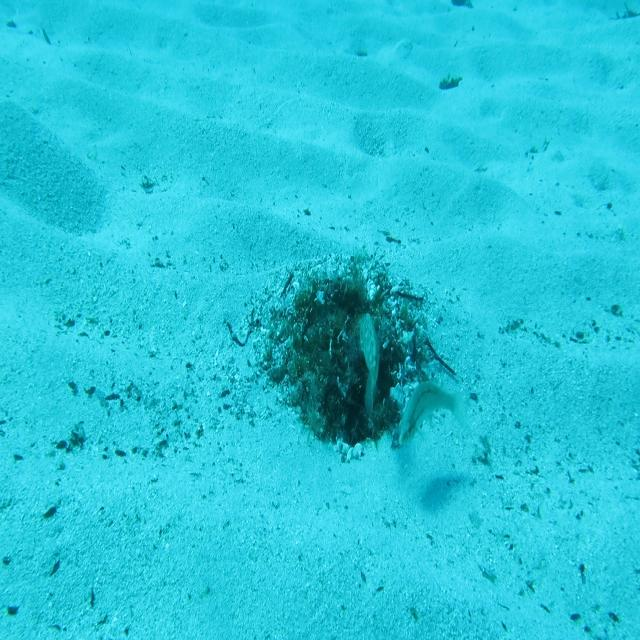MAN: (357, 310, 382, 428)
core_nest: (321, 292, 366, 342)
female: (397, 377, 473, 452)
nest: (246, 242, 452, 476)
vegetation: (437, 77, 465, 93)
